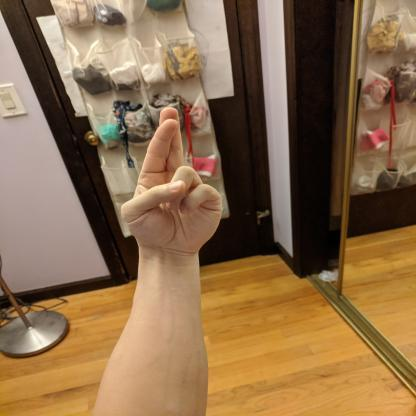R: (116, 104, 228, 258)
